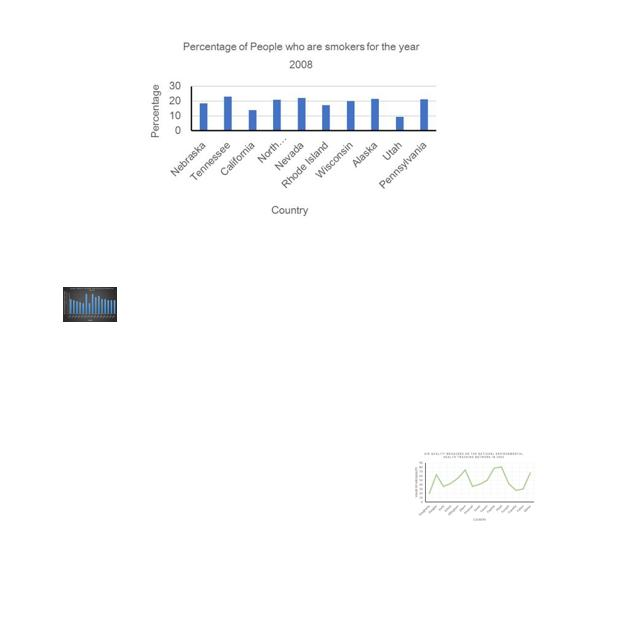Graph: (143, 33, 443, 221), (411, 450, 536, 525), (63, 287, 117, 322)
